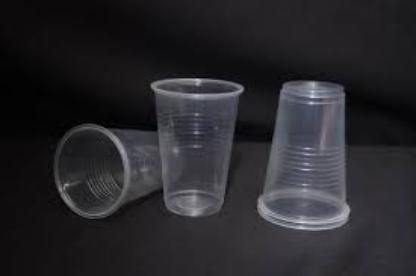Others: (258, 82, 350, 230), (151, 79, 243, 216)
Plastic Cup: (54, 120, 158, 220)
